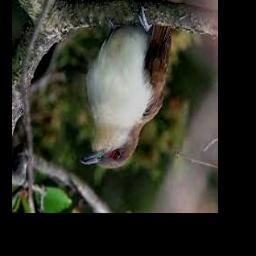Cuckoo: (80, 0, 181, 168)
